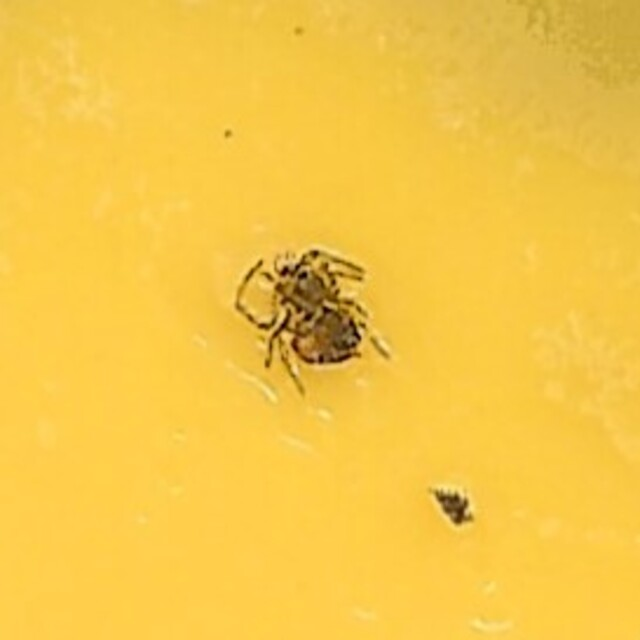Araneae: (234, 243, 406, 397)
